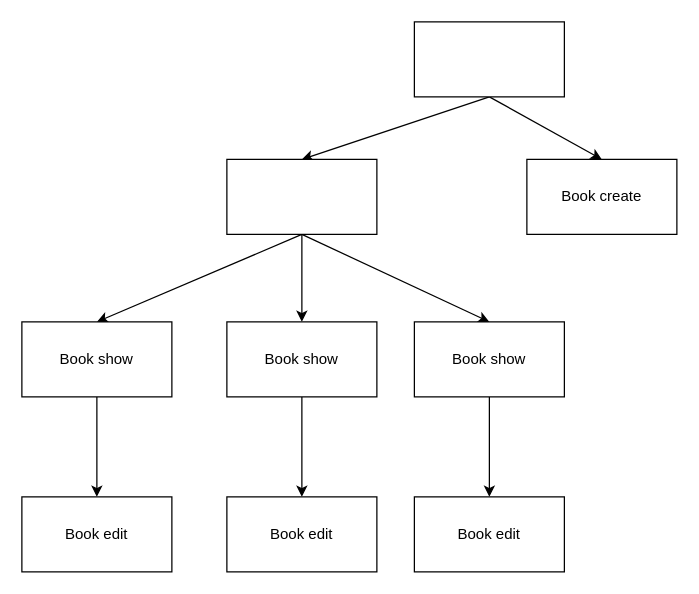
This 699x594 diagram has some shape labels left out. The shapes that lost their labels are listed below. From the top down, each one's box as (x1, y1, x2, y2) in pixels, then its label:
(413, 21, 564, 97): App component
(226, 158, 377, 234): Book list
